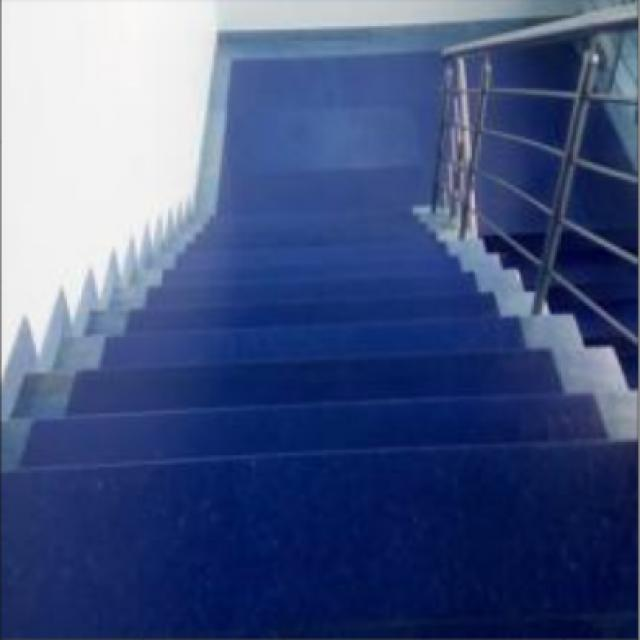stair: (78, 192, 565, 548)
